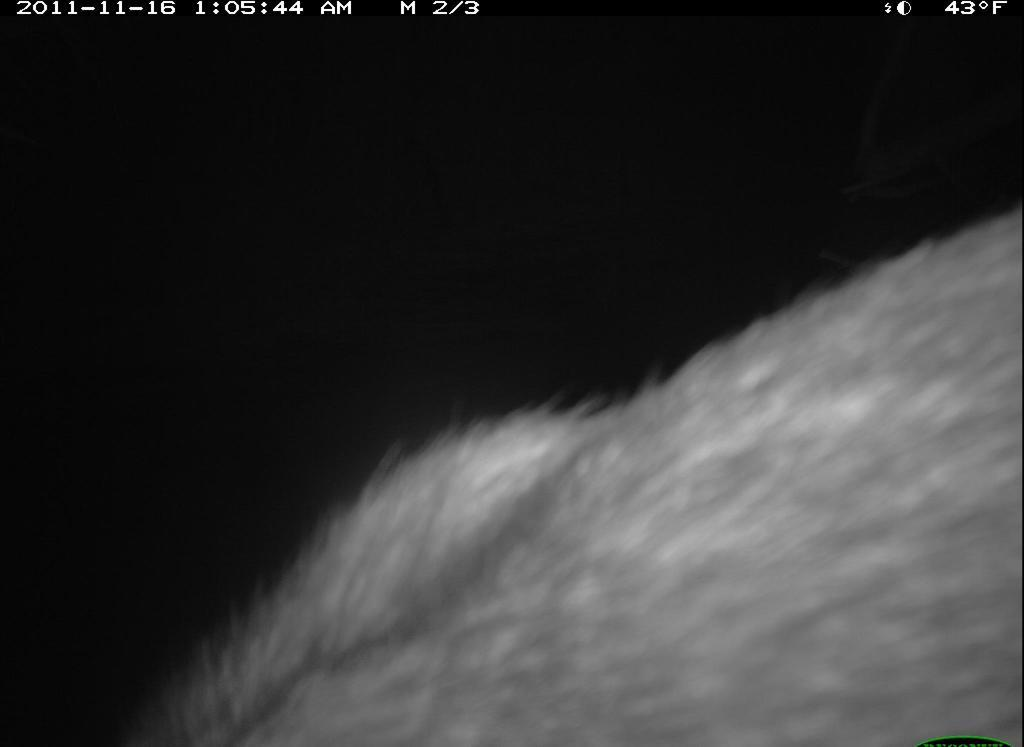raccoon: (97, 199, 1023, 737)
